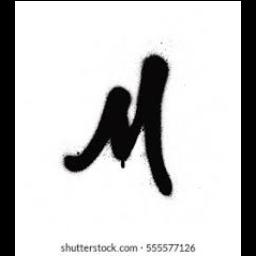m: (59, 48, 185, 214)
